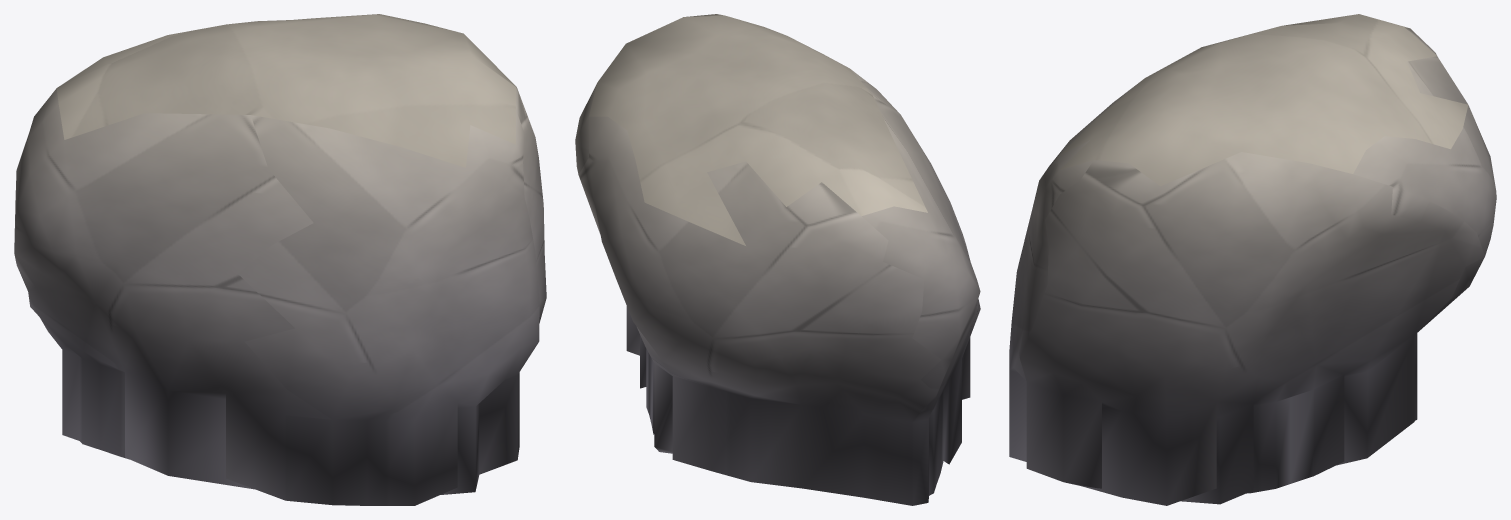
File: Rock_Boulder_Grey_Round_01.fbx
3 renders of one model, left to right at view 1: azimuth 30°, elevation 25°; view 2: azimuth 150°, elevation 25°; view 3: azimuth 270°, elevation 25°, orthographic. The views are drawn at different scales.
Parts seen in each view (by area): view 1: Rock_Boulder_Grey_Round_01; view 2: Rock_Boulder_Grey_Round_01; view 3: Rock_Boulder_Grey_Round_01.
Part boxes in pixels (x1,y1,x2,y2): Rock_Boulder_Grey_Round_01: (14, 14, 546, 505); Rock_Boulder_Grey_Round_01: (575, 14, 980, 505); Rock_Boulder_Grey_Round_01: (1009, 14, 1496, 505).
Size of the model in its own units: 2.9 by 2.41 by 2.83.
Materials: 1 (1 with a texture image).
